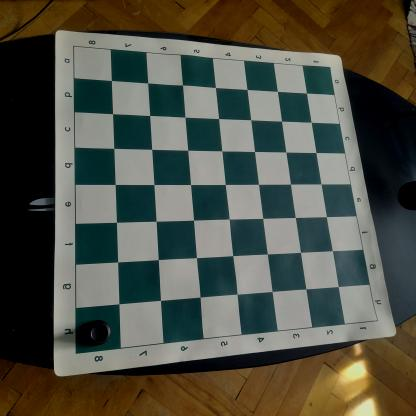black-rook: (82, 318, 112, 347)
